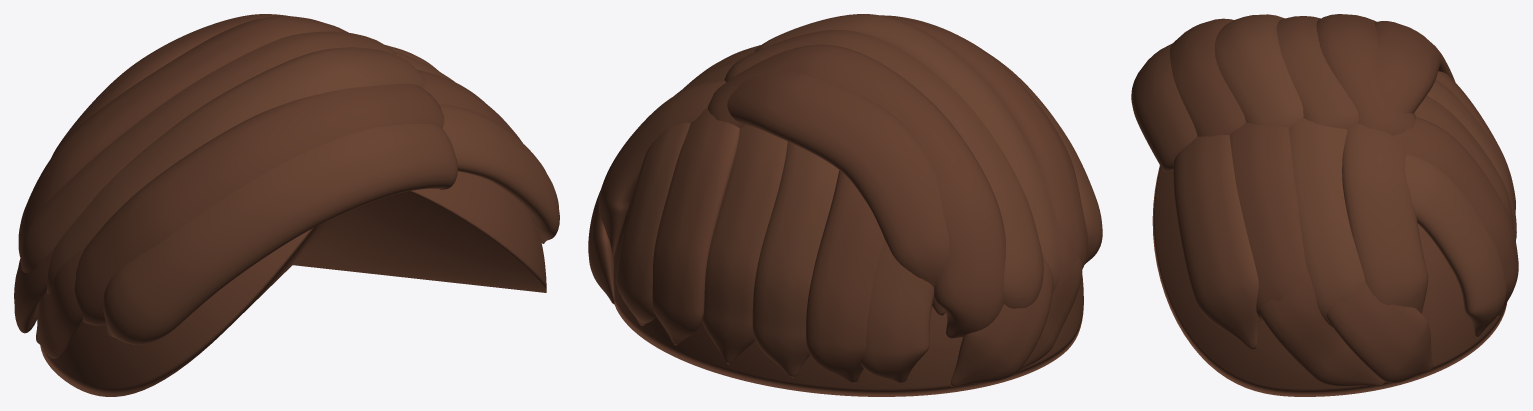
The model's file is hair-part-sculpted.glb.
The picture shows the model from 3 angles, left to right: view 1: azimuth 30°, elevation 25°; view 2: azimuth 150°, elevation 25°; view 3: azimuth 270°, elevation 25°; orthographic projection. The views are drawn at different scales.
Visible parts, largest first — view 1: Recessed roots, Hair / Side part main 0, Hair / Side part main 1, Hair / Side part main 2, Hair / Side part main 3, Hair / Side part main 4, Hair / Side part short 0, Hair / Side part crown, Hair / Side part low -1 0, Hair / Side part low -1 1, Hair / Side part short 1; view 2: Hair / Side part crown, Hair / Side part main 4, Hair / Side part nape 2, Recessed roots, Hair / Side part nape 4, Hair / Side part main 3, Hair / Side part nape 3, Hair / Side part nape 1, Hair / Side part main 2, Hair / Side part main 1, Hair / Side part nape 0, Hair / Side part nape 5 (+6 smaller); view 3: Recessed roots, Hair / Side part short 0, Hair / Side part short 3, Hair / Side part short 1, Hair / Side part short 2, Hair / Side part nape 5, Hair / Side part main 2, Hair / Side part low 1 1, Hair / Side part low 1 0, Hair / Side part main 4, Hair / Side part nape 4, Hair / Side part main 1 (+6 smaller).
Part boxes in pixels (x1,y1,x2,y2): Recessed roots: (40, 171, 546, 396); Hair / Side part main 0: (103, 123, 457, 344); Hair / Side part main 1: (74, 83, 444, 325); Hair / Side part main 2: (46, 47, 424, 293); Hair / Side part main 3: (20, 31, 396, 272); Hair / Side part main 4: (18, 16, 348, 256); Hair / Side part short 0: (439, 104, 559, 243); Hair / Side part crown: (51, 14, 289, 157); Hair / Side part low -1 0: (36, 248, 84, 358); Hair / Side part low -1 1: (14, 247, 54, 333); Hair / Side part short 1: (417, 69, 522, 142); Hair / Side part crown: (727, 71, 949, 316); Hair / Side part main 4: (708, 44, 1005, 338); Hair / Side part nape 2: (752, 141, 839, 377); Recessed roots: (614, 195, 1083, 396); Hair / Side part nape 4: (652, 107, 739, 345); Hair / Side part main 3: (724, 30, 1043, 308); Hair / Side part nape 3: (702, 125, 787, 364); Hair / Side part nape 1: (806, 170, 884, 383); Hair / Side part main 2: (754, 14, 1059, 291); Hair / Side part main 1: (880, 15, 1087, 268); Hair / Side part nape 0: (861, 240, 934, 382); Hair / Side part nape 5: (616, 122, 690, 325); Recessed roots: (1152, 165, 1507, 396); Hair / Side part short 0: (1173, 134, 1260, 350); Hair / Side part short 3: (1342, 123, 1428, 313); Hair / Side part short 1: (1229, 122, 1305, 321); Hair / Side part short 2: (1289, 117, 1365, 327); Hair / Side part nape 5: (1405, 154, 1506, 337); Hair / Side part main 2: (1214, 14, 1303, 128); Hair / Side part low 1 1: (1326, 282, 1433, 383); Hair / Side part low 1 0: (1258, 263, 1385, 386); Hair / Side part main 4: (1316, 14, 1415, 135); Hair / Side part nape 4: (1393, 117, 1518, 316); Hair / Side part main 1: (1169, 18, 1245, 136).
Size of the model in its own units: 0.9984 by 0.572 by 0.7615.
